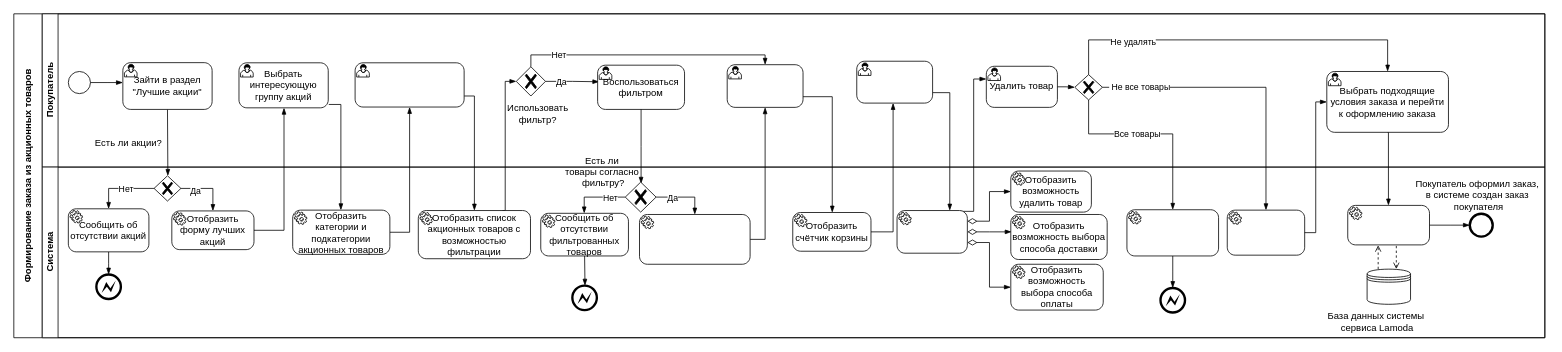
The diagram is 1562 pixels wide and 352 high, and some of its shapes have lost their labels. The centre of each missing label's shape, as x and y in pixels:
Выбрать нужные категории и подкатегории: the point at 409,84
Добавить интересующий товар в корзину: the point at 764,85
Заблокировать возможность оформить заказ: the point at 1172,232
Изменить состав корзины: the point at 1265,232
Отобразить корзину: the point at 931,231
Отобразить товары согласно заполненному фильтру: the point at 694,239
Перейти в корзину: the point at 894,81
Сохранить заказ: the point at 1388,225
